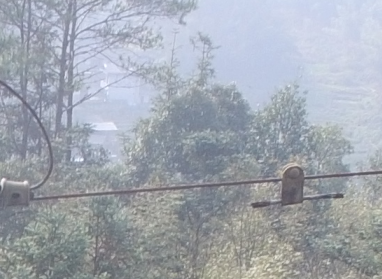damper_defect: (251, 160, 346, 212)
